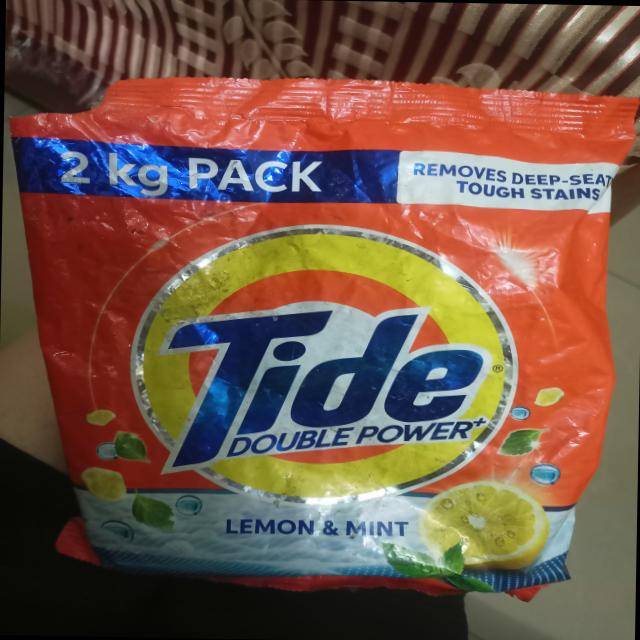plastic_bag: (0, 46, 640, 640)
